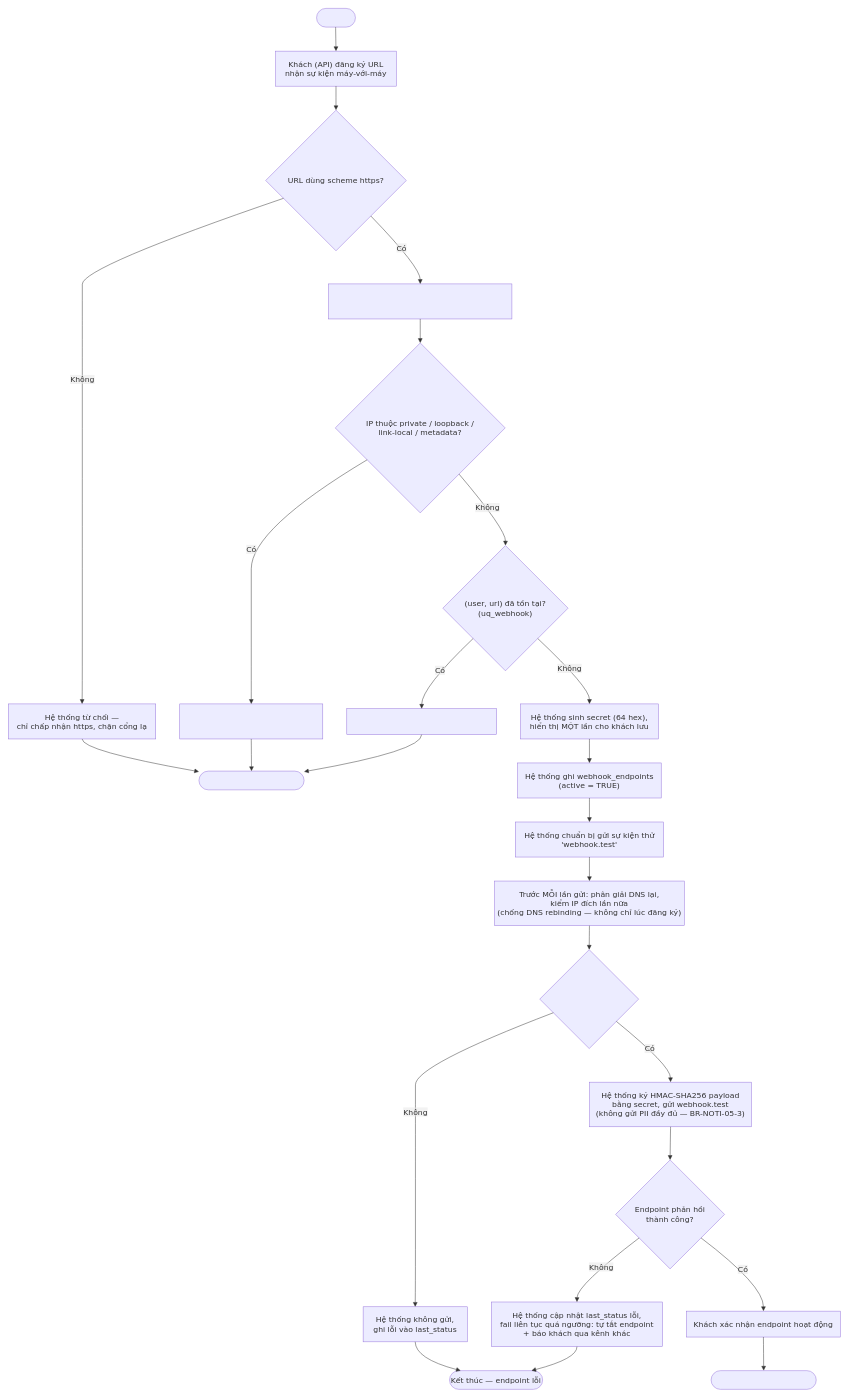
Some shapes in this 849 by 1398 pixel diagram are drawn without their labels. Each missing label, with the centre of its shape:
"Bắt đầu" goes at point (335, 17).
"Hệ thống phân giải DNS của host (URL người dùng nhập là bề mặt SSRF chính)" goes at point (420, 301).
"Hệ thống từ chối — endpoint trùng" goes at point (421, 721).
"Hệ thống từ chối — URL trỏ đích nội bộ (chống SSRF)" goes at point (251, 721).
"Kết thúc — endpoint active" goes at point (763, 1379).
"Kết thúc — từ chối đăng ký" goes at point (251, 780).
"Đích vẫn hợp lệ?" goes at point (589, 999).
